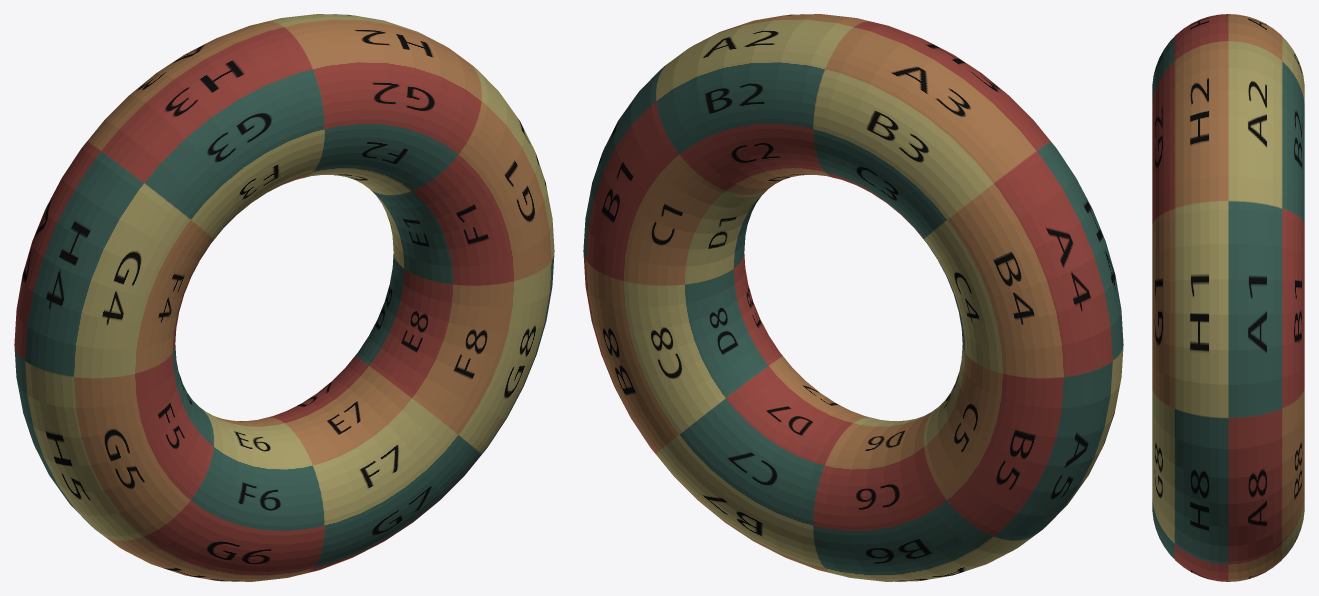
The model's file is texture_torus_R16_r21.glb.
3 renders of one model, left to right at view 1: azimuth 30°, elevation 25°; view 2: azimuth 150°, elevation 25°; view 3: azimuth 270°, elevation 25°, orthographic. The views are drawn at different scales.
Visible parts, largest first — view 1: world; view 2: world; view 3: world.
Boxes of the visible parts, x1,y1,x2,y2 form: world: (14,14,554,581); world: (583,14,1123,581); world: (1152,14,1304,581).
Size of the model in its own units: 28.27 by 28.21 by 7.59.
1 material, 1 textured.
